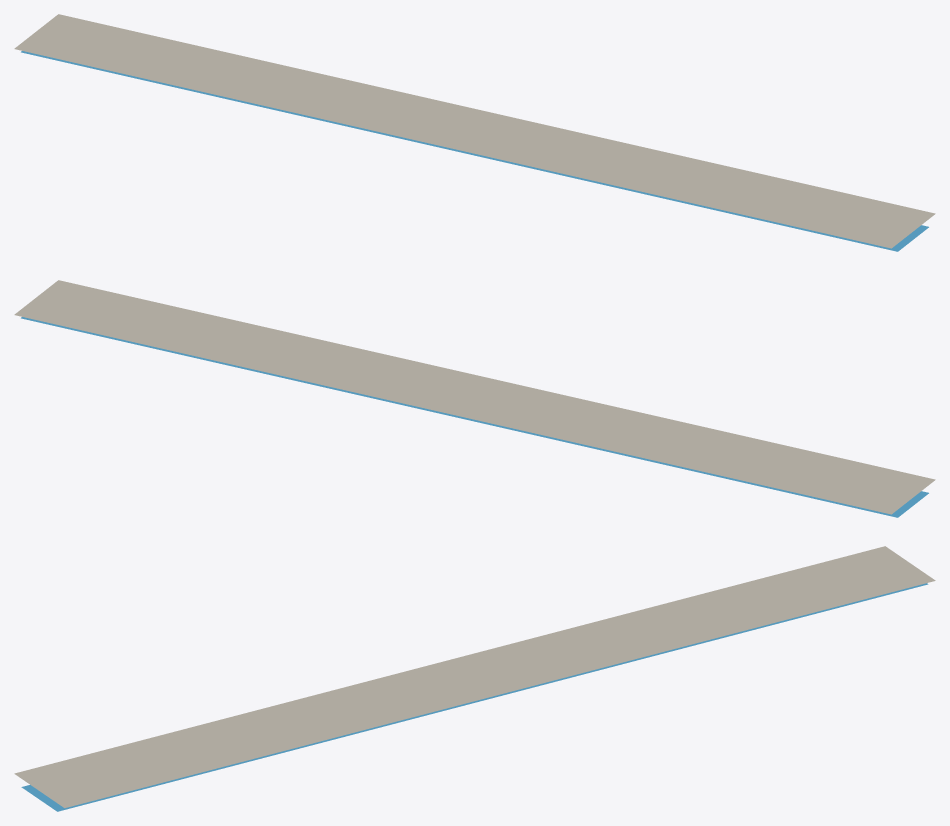
3 views of the same model, one above another, from view 1: azimuth 30°, elevation 25°; view 2: azimuth 210°, elevation 25°; view 3: azimuth 270°, elevation 25° (orthographic). The views are drawn at different scales.
Visible parts, largest first — view 1: estructura_terreno, estructura_agua; view 2: estructura_terreno, estructura_agua; view 3: estructura_terreno, estructura_agua.
Boxes of the visible parts, x1,y1,x2,y2 form: estructura_terreno: (14,14,935,248); estructura_agua: (21,51,928,251); estructura_terreno: (14,280,935,514); estructura_agua: (21,317,928,517); estructura_terreno: (14,546,935,808); estructura_agua: (21,583,928,811).
Bounding box in the file's own units: 27.03 × 0.41 × 40.17.
